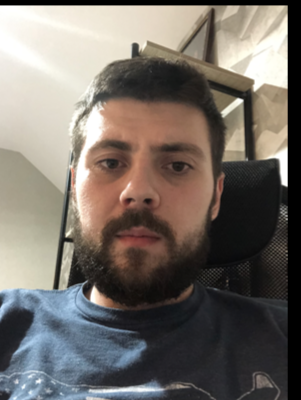without_mask: (71, 136, 218, 289)
